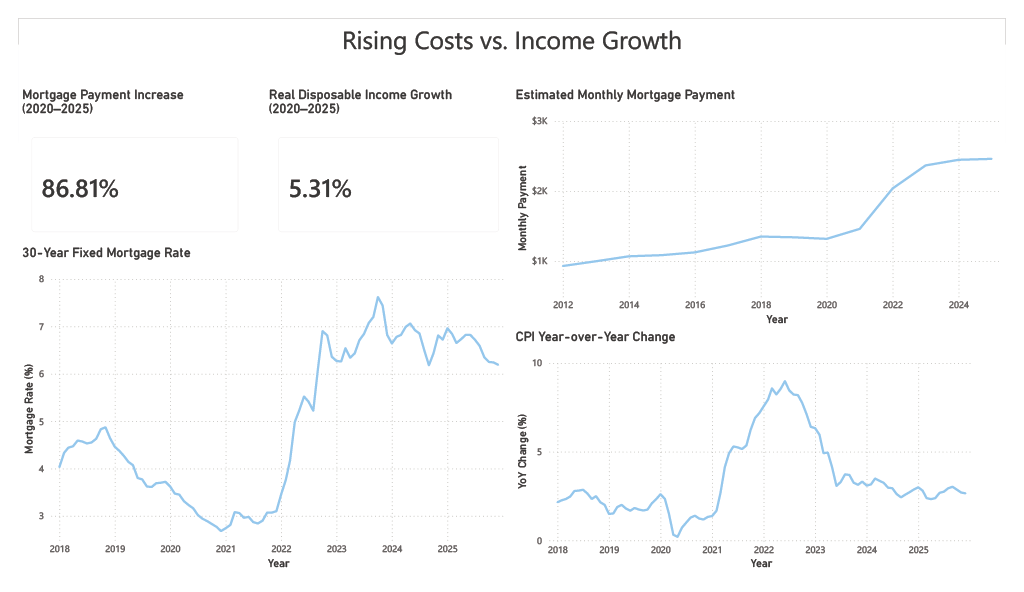

This screenshot's page, from the dashboard's own definition file:
{"tool":"powerbi","page":{"name":"Rising Costs vs Income Growth","canvas":[1280,720],"ordinal":1},"visuals":[{"type":"lineChart","title":"30-Year Fixed Mortgage Rate","fields":{"Y":["Avg(Macro Economic Data.30-Year Fixed Mortgage Rate)"],"Category":["Macro Economic Data.observation_date"]},"box":[0,293.7,639.5,425.8],"z":0},{"type":"lineChart","title":"CPI Year-over-Year Change  ","fields":{"Category":["Macro Economic Data.observation_date"],"Y":["Avg(Macro Economic Data.CPI)"]},"box":[640.3,403,605.4,317],"z":1000},{"type":"cardVisual","title":"Mortgage Payment Increase (2020–2025)","fields":{"Data":["Monthly_Payment.Percent Increase in Average Monthly Payment(2020-2025)"]},"box":[0,87.8,301.8,206],"z":2000},{"type":"textbox","box":[0,0,1279.7,87.8],"z":3000},{"type":"lineChart","title":"Estimated Monthly Mortgage Payment","fields":{"Y":["Avg(Metro_total_monthly_payment_downpayment_0 20_uc_sfrcondo_tier_0 33_0 67_sm_sa_mo.Total Monthly Payment)"],"Category":["Metro_total_monthly_payment_downpayment_0 20_uc_sfrcondo_tier_0 33_0 67_sm_sa_mo.Date.Variation.Date Hierarchy.Year"]},"box":[640.3,88.7,639.4,314.3],"z":4000},{"type":"cardVisual","title":"Real Disposable Income Growth (2020–2025)","fields":{"Data":["Macro Economic Data.Percent Increase In Real Disposable Income Per Capita From 2020 to 2025"]},"box":[320.2,88.2,319.3,205.6],"z":5000}]}

Visuals, with their boxes in screenshot pixels (x1, y1, x2, y2), scaled from the page's 1280x720 canvas onto the 1024x592 screenshot:
"30-Year Fixed Mortgage Rate" lineChart: {"left": 0, "top": 241, "right": 512, "bottom": 591}
"CPI Year-over-Year Change  " lineChart: {"left": 512, "top": 331, "right": 997, "bottom": 591}
"Mortgage Payment Increase (2020–2025)" cardVisual: {"left": 0, "top": 72, "right": 241, "bottom": 242}
textbox: {"left": 0, "top": 0, "right": 1023, "bottom": 72}
"Estimated Monthly Mortgage Payment" lineChart: {"left": 512, "top": 73, "right": 1023, "bottom": 331}
"Real Disposable Income Growth (2020–2025)" cardVisual: {"left": 256, "top": 73, "right": 512, "bottom": 242}
